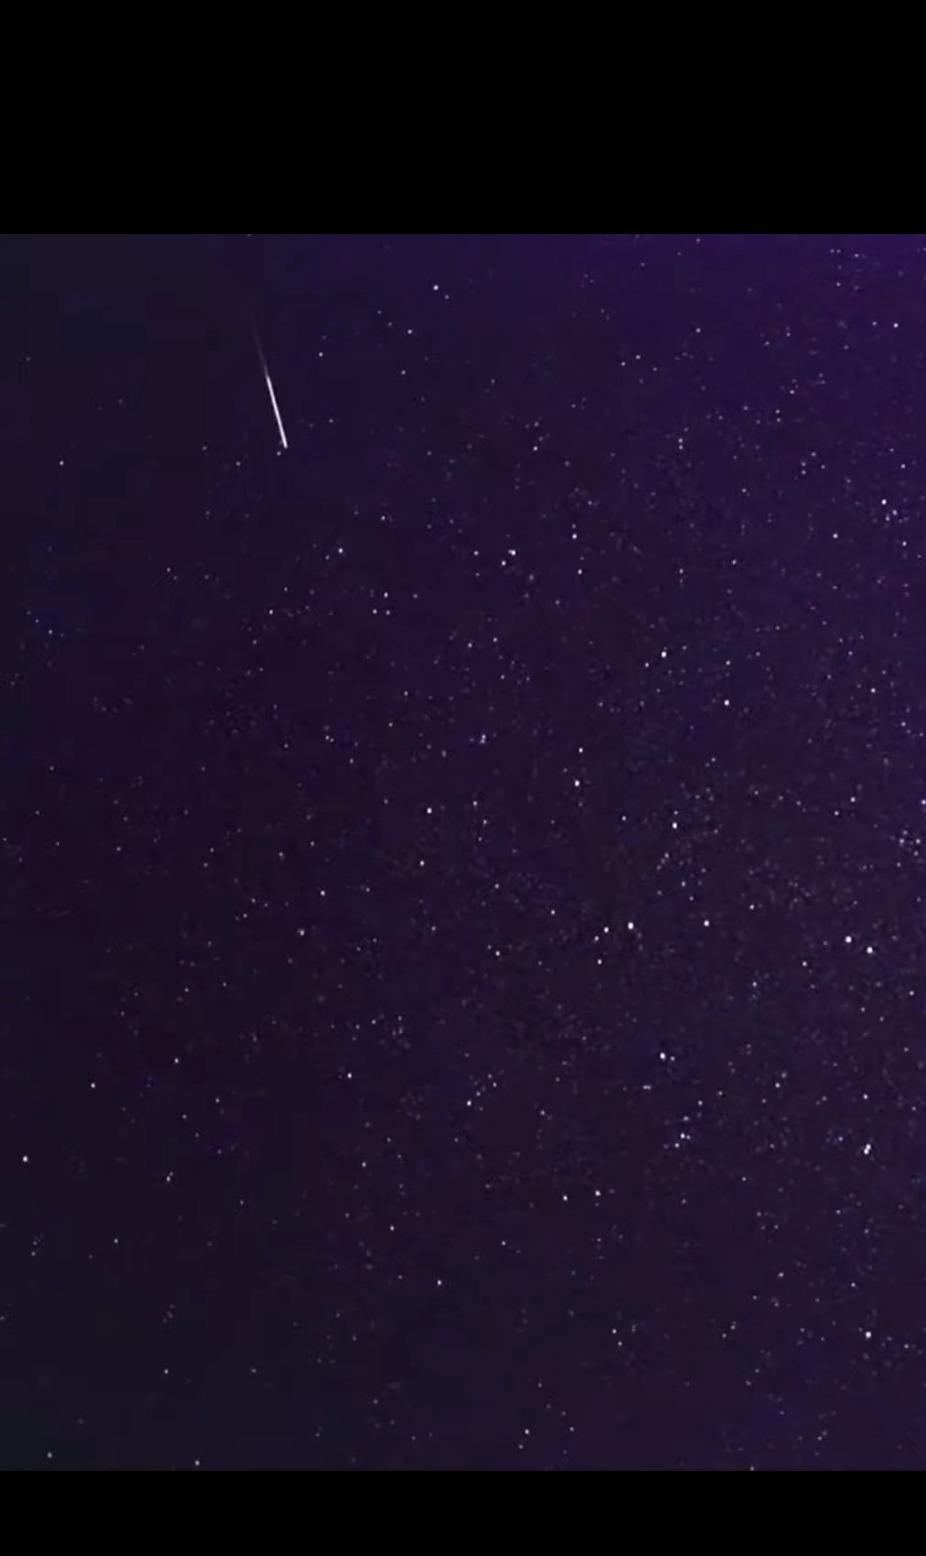meteorite: (223, 333, 313, 464)
